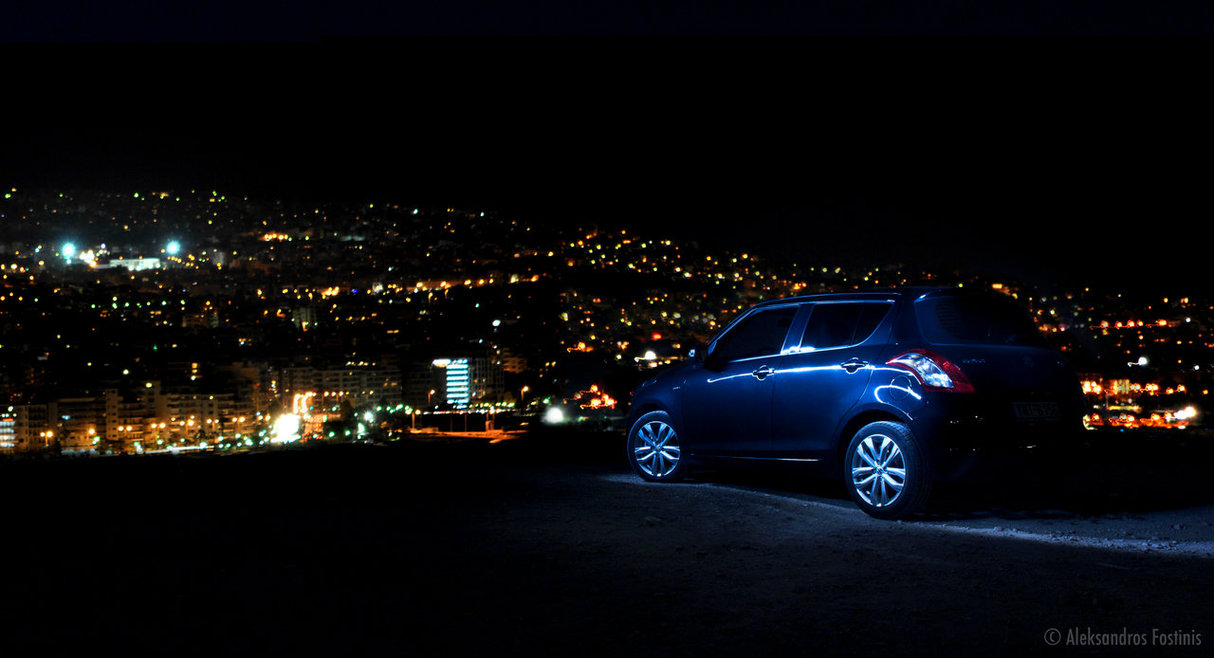car: (619, 275, 1100, 531)
